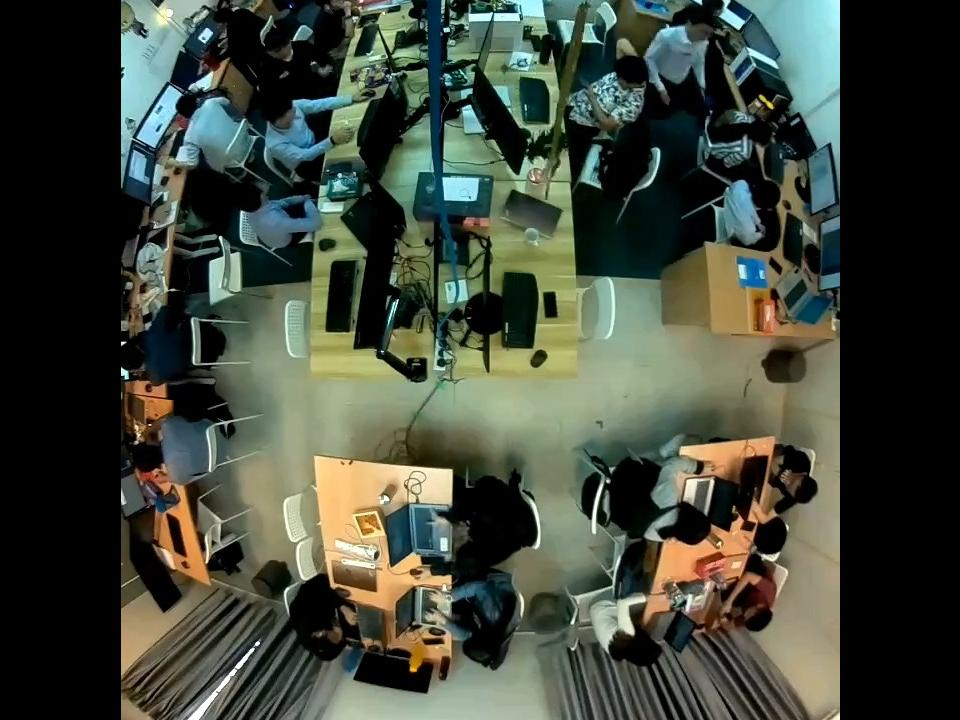name-tag: (679, 50, 693, 58)
